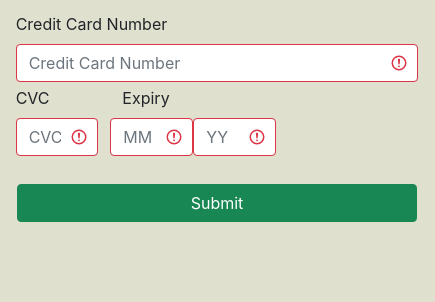
expiry month validation
Type "1" into the field with test id "expiryMM".
click(152, 137); type("1")  # box [110,118,193,156]
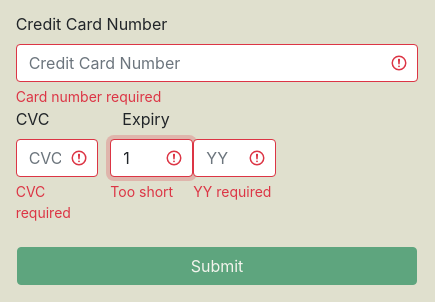
Expected: the text "Too short" is shown, [110,183,173,200]
Type "0" into the field with test id "expiryMM".
click(152, 158); type("0")  # box [110,139,193,177]
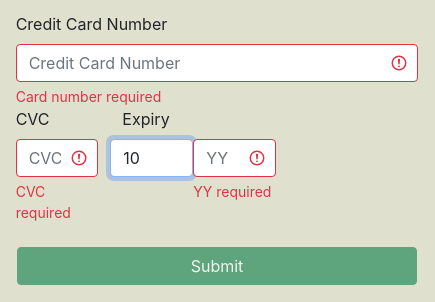
Expected: the text "Too short" is gone
